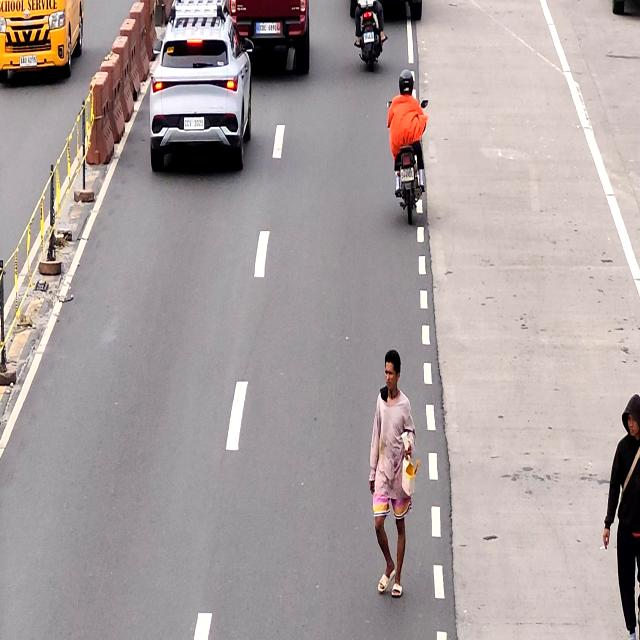Car: (148, 0, 251, 178), (235, 0, 312, 75)
License-Plate: (255, 21, 282, 37), (183, 116, 205, 130), (362, 30, 376, 46)
Motorcycle: (393, 66, 422, 225)
